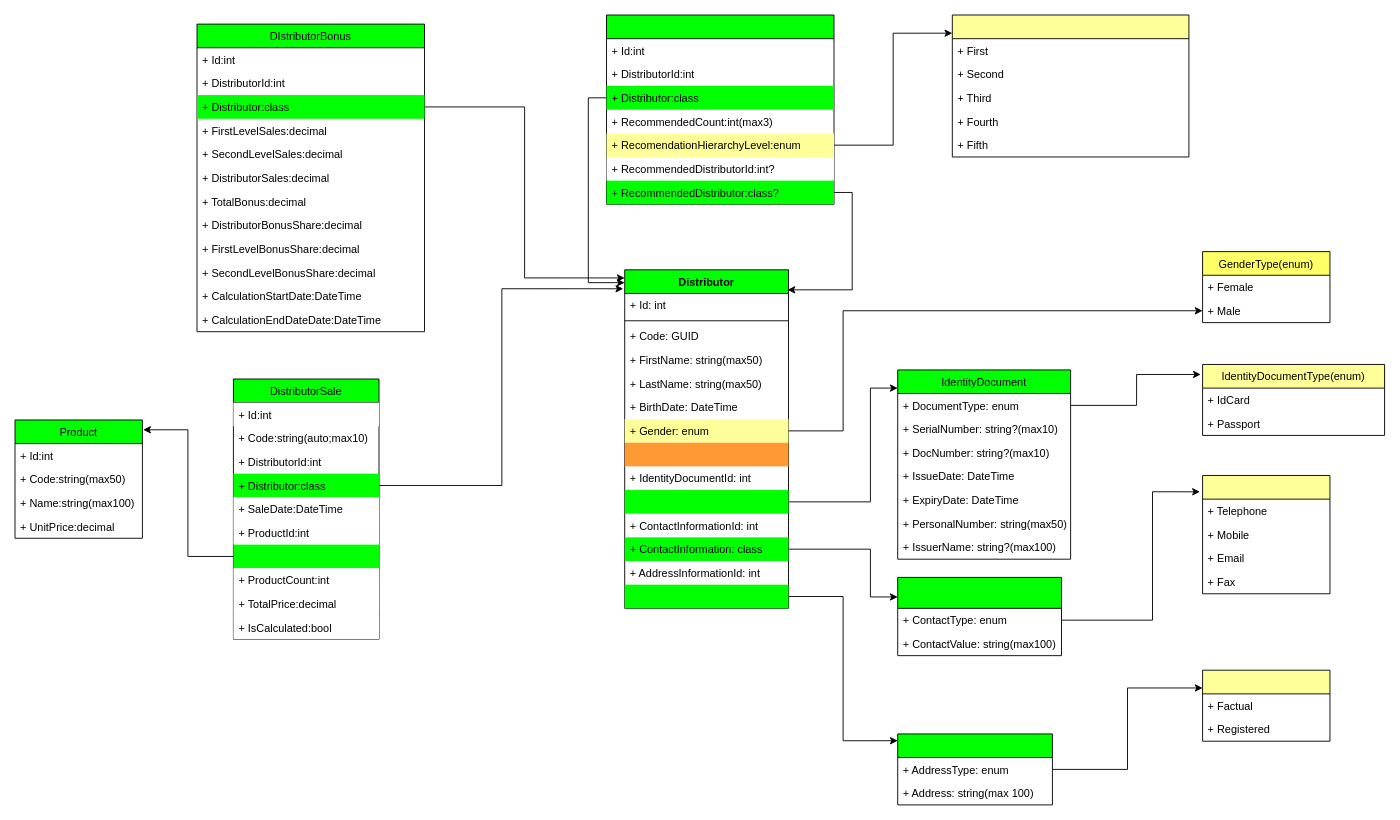
Image size: 1400x820. Some labels were removed from this diagram. The box of each missing label's shape, as (x1, y1, x2, y2) in pixels:
+ AddressInformation: class: (624, 584, 788, 608)
+ IdentityDocument: class: (624, 490, 788, 513)
+ Picture: IFormFile?: (624, 442, 788, 466)
+ Product:Class: (233, 544, 379, 568)
AddressInformation: (897, 733, 1052, 805)
AddressType(enum): (1202, 669, 1330, 741)
ContactInformation: (897, 576, 1062, 656)
ContactInfoType: (1202, 475, 1330, 594)
RecomendationControl: (606, 14, 834, 204)
RecommendationHierarchyLevel(enum): (951, 14, 1189, 157)
